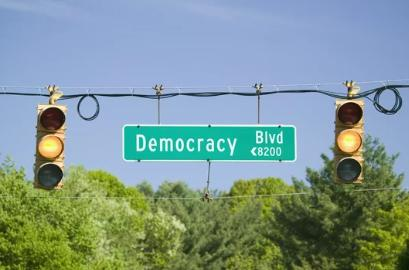yellow_light: (34, 104, 67, 189), (333, 100, 364, 184)
